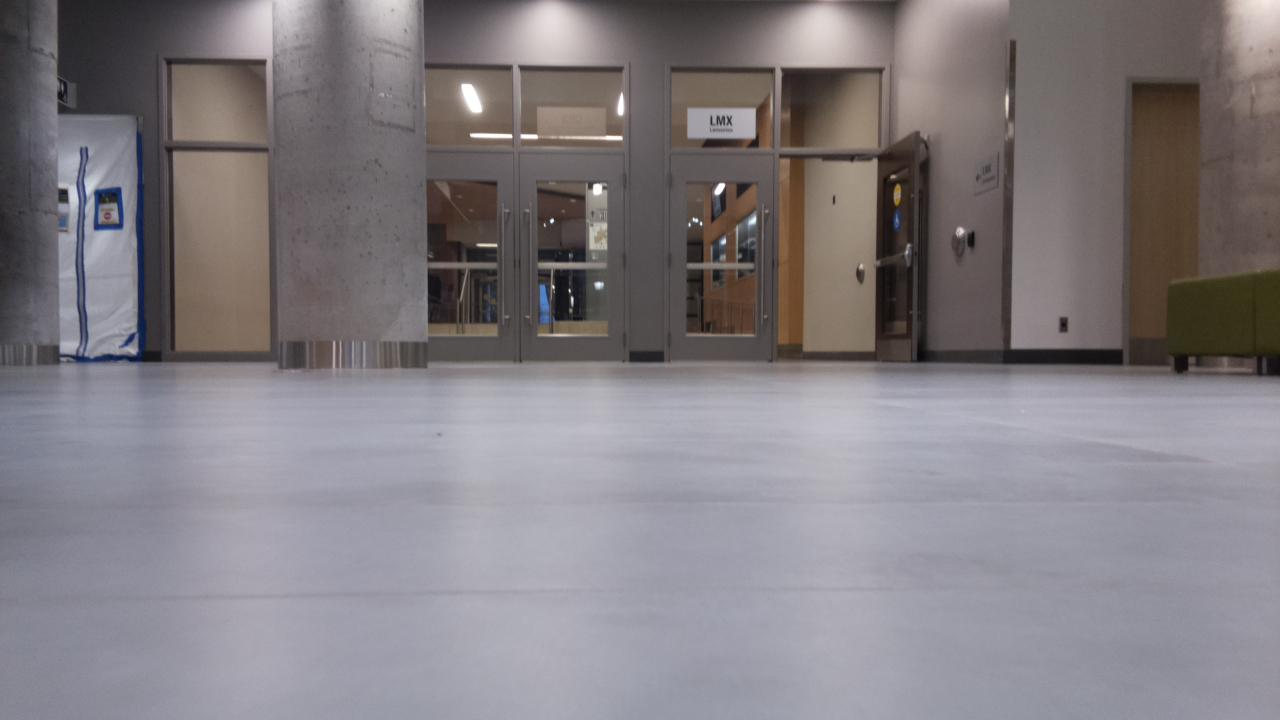door: (670, 154, 877, 361), (427, 152, 623, 362)
